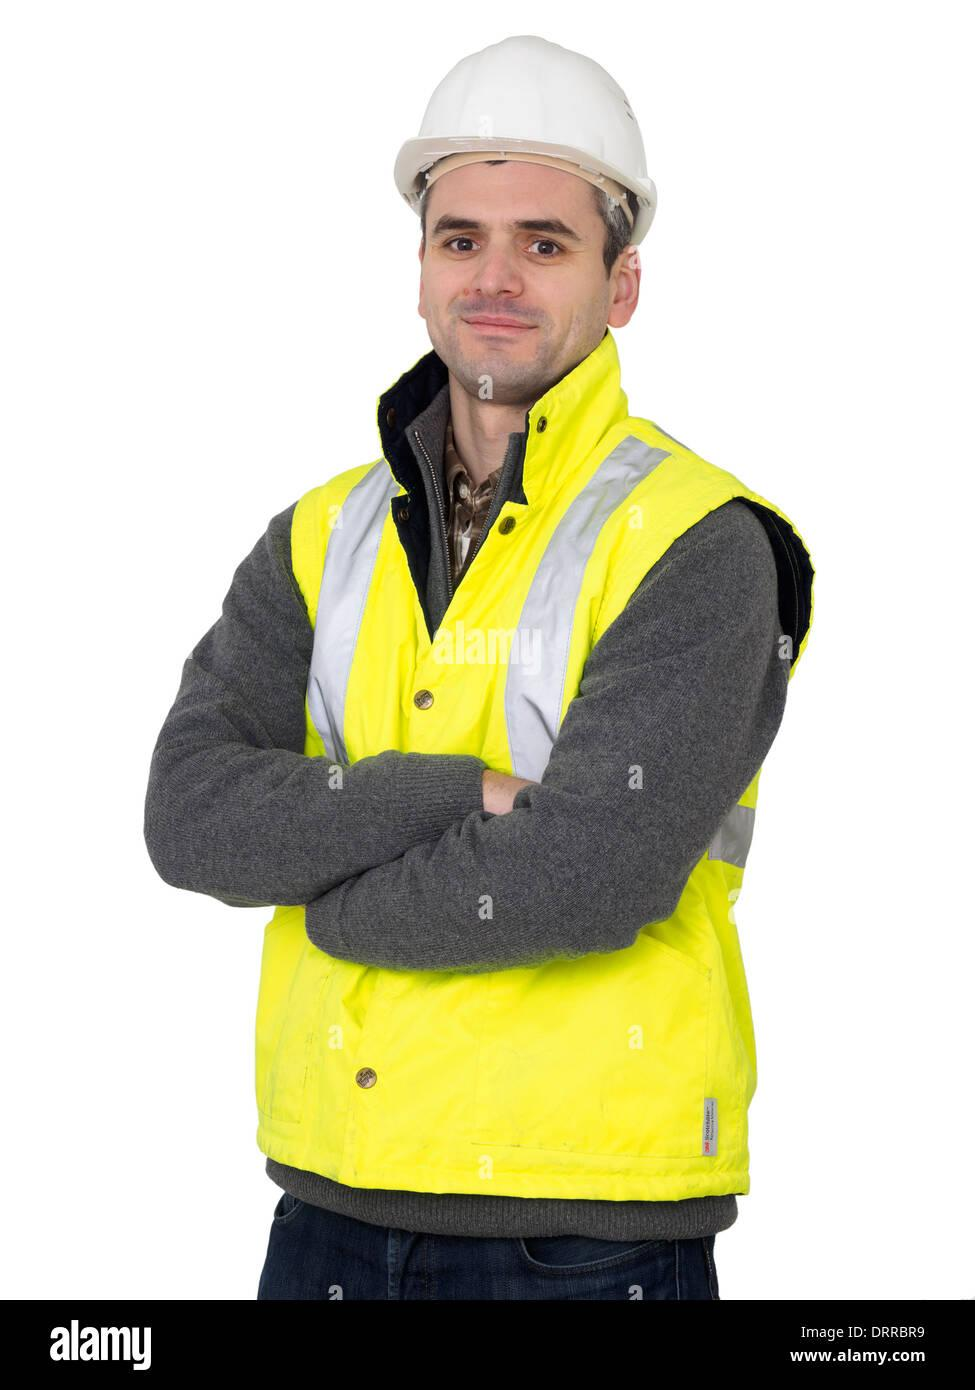hat: (321, 1, 748, 288)
vest: (221, 401, 831, 1298)
